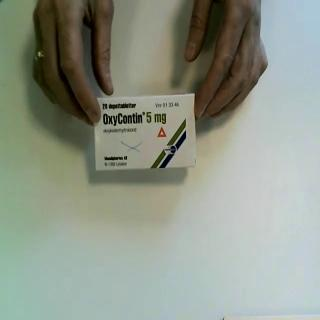oxycontin5mg: (93, 93, 199, 173)
